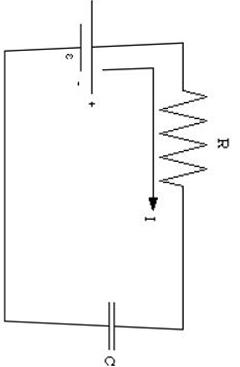resistor: (157, 70, 208, 190)
